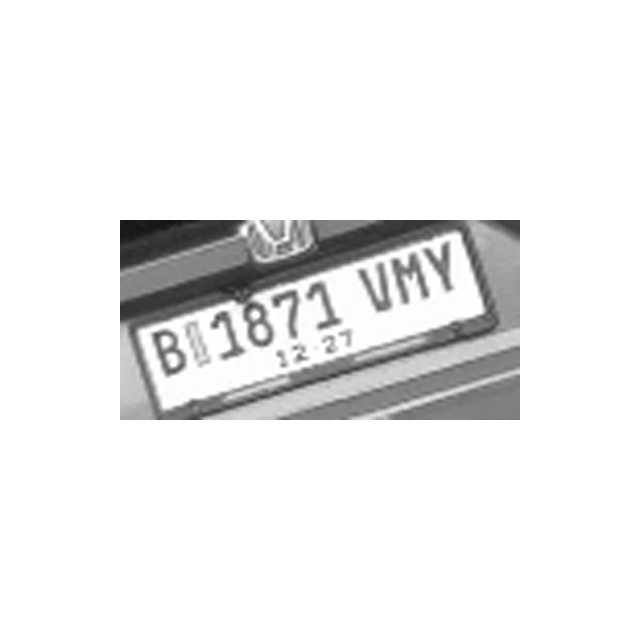contain: (389, 250, 436, 304), (147, 321, 192, 376), (205, 306, 249, 360), (304, 278, 347, 330), (354, 259, 393, 315), (421, 237, 458, 295), (273, 286, 310, 340), (241, 299, 276, 347)
